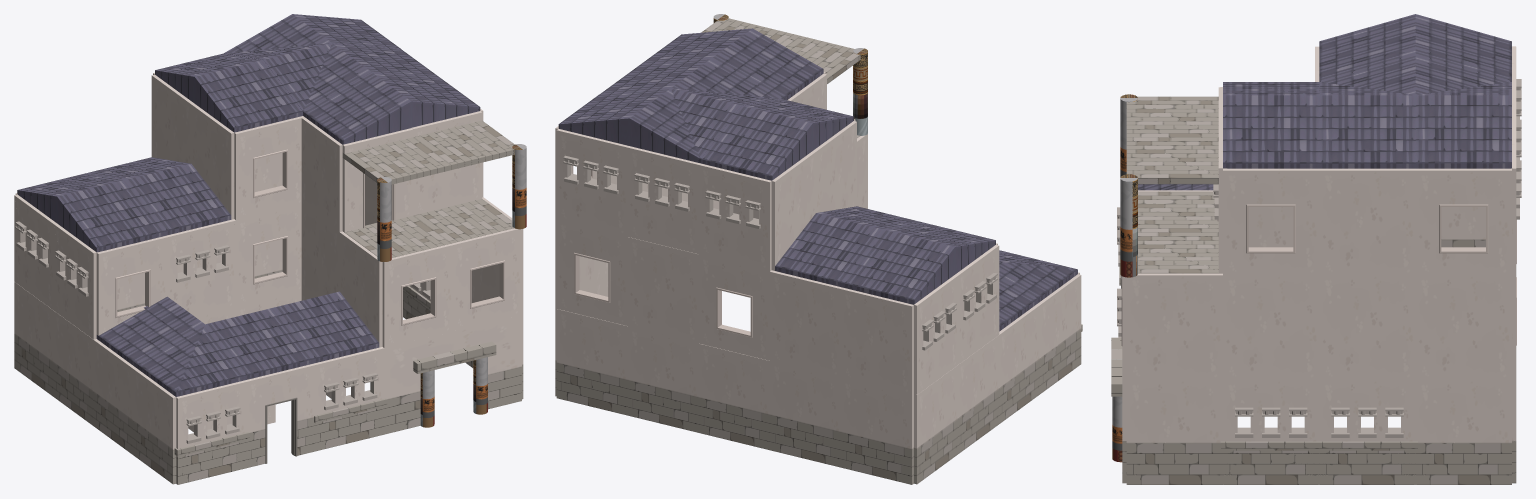
The model's file is ancient_SM_Bld_Temp_Building_02.gltf.
The picture shows the model from 3 angles, left to right: view 1: azimuth 30°, elevation 25°; view 2: azimuth 150°, elevation 25°; view 3: azimuth 270°, elevation 25°; orthographic projection. The views are drawn at different scales.
Visible parts, largest first — view 1: SM_Bld_Temp_Building_02; view 2: SM_Bld_Temp_Building_02; view 3: SM_Bld_Temp_Building_02.
Part boxes in pixels (x1=…): SM_Bld_Temp_Building_02: x1=14, y1=14, x2=526, y2=484; SM_Bld_Temp_Building_02: x1=555, y1=14, x2=1082, y2=484; SM_Bld_Temp_Building_02: x1=1111, y1=14, x2=1521, y2=484.
Size of the model in its own units: 13 by 9.94 by 10.64.
Materials: 5 (5 with a texture image).
